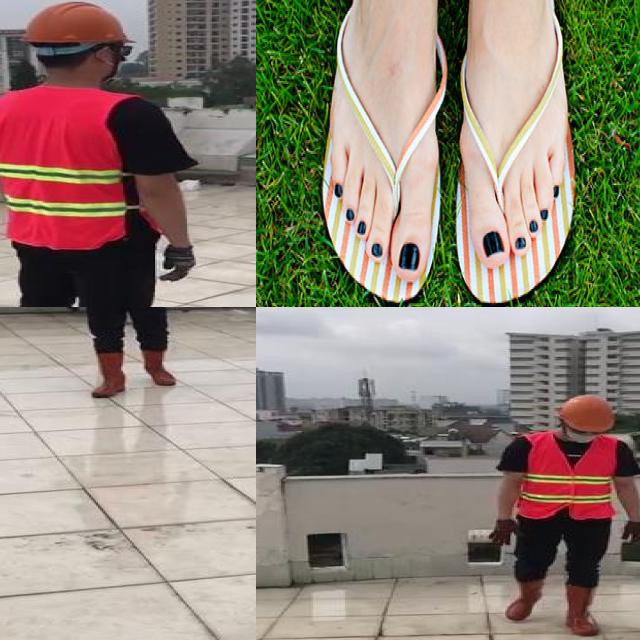Sandals: (297, 0, 620, 307)
boots: (564, 583, 606, 636), (503, 577, 544, 622), (93, 350, 128, 396), (141, 347, 176, 386)
face_mask: (558, 422, 606, 446)
hand_glove: (166, 244, 200, 285), (489, 520, 525, 546), (620, 520, 640, 546), (174, 307, 197, 313), (62, 307, 85, 311)
head_helmet: (11, 0, 136, 45), (560, 393, 614, 432)
person: (0, 0, 202, 307), (481, 392, 640, 640), (60, 307, 202, 400)
vest: (0, 86, 142, 253), (520, 435, 614, 520)
